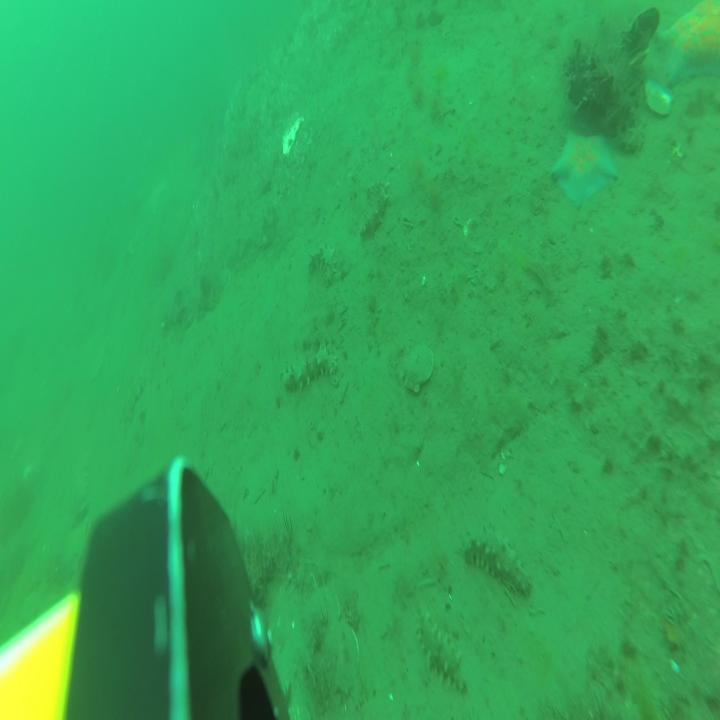holothurian: (464, 524, 530, 596), (418, 612, 467, 692), (284, 346, 336, 393), (360, 176, 389, 237), (122, 374, 146, 431), (310, 244, 336, 287), (73, 457, 90, 521)
scallop: (321, 620, 360, 696), (306, 586, 341, 644), (627, 5, 661, 53), (404, 342, 433, 393), (643, 79, 674, 117)
starfish: (655, 0, 720, 83), (552, 132, 618, 209)
